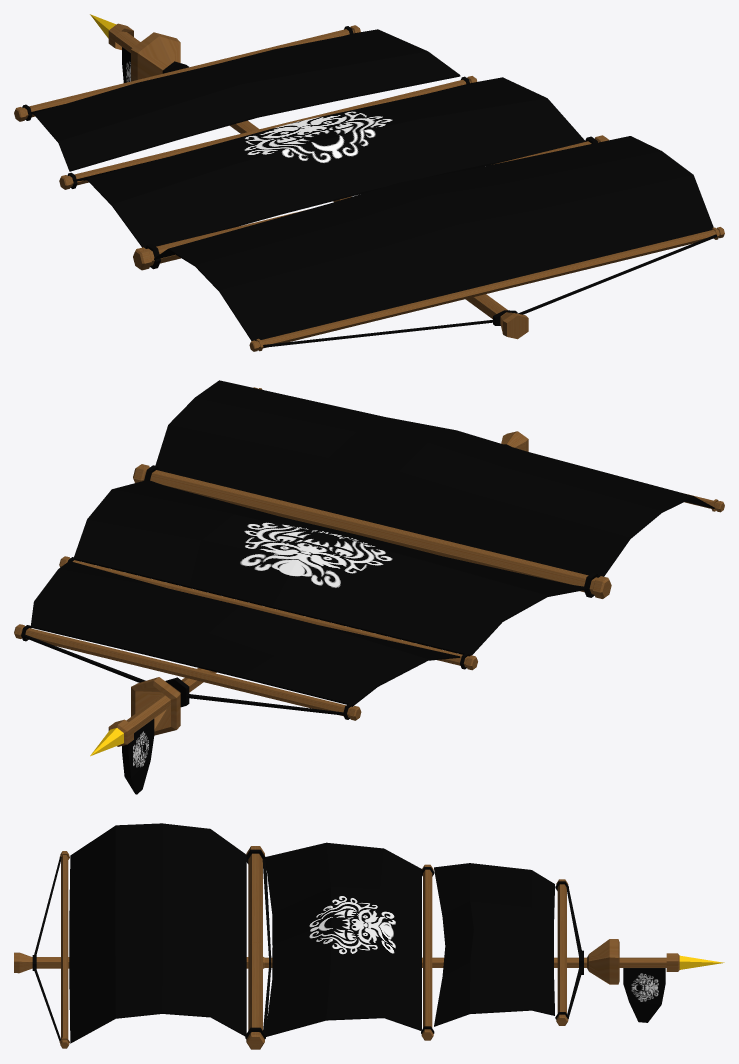
Rendered from sail_a_21.fbx.
3 views of the same model, one above another, from view 1: azimuth 30°, elevation 25°; view 2: azimuth 150°, elevation 25°; view 3: azimuth 270°, elevation 25° (orthographic). The views are drawn at different scales.
Parts seen in each view (by area): view 1: Cube.216; view 2: Cube.216; view 3: Cube.216.
Boxes of the visible parts, x1,y1,x2,y2 form: Cube.216: (14, 14, 724, 351); Cube.216: (14, 380, 724, 794); Cube.216: (14, 823, 724, 1049).
Size of the model in its own units: 221 by 61.47 by 346.
